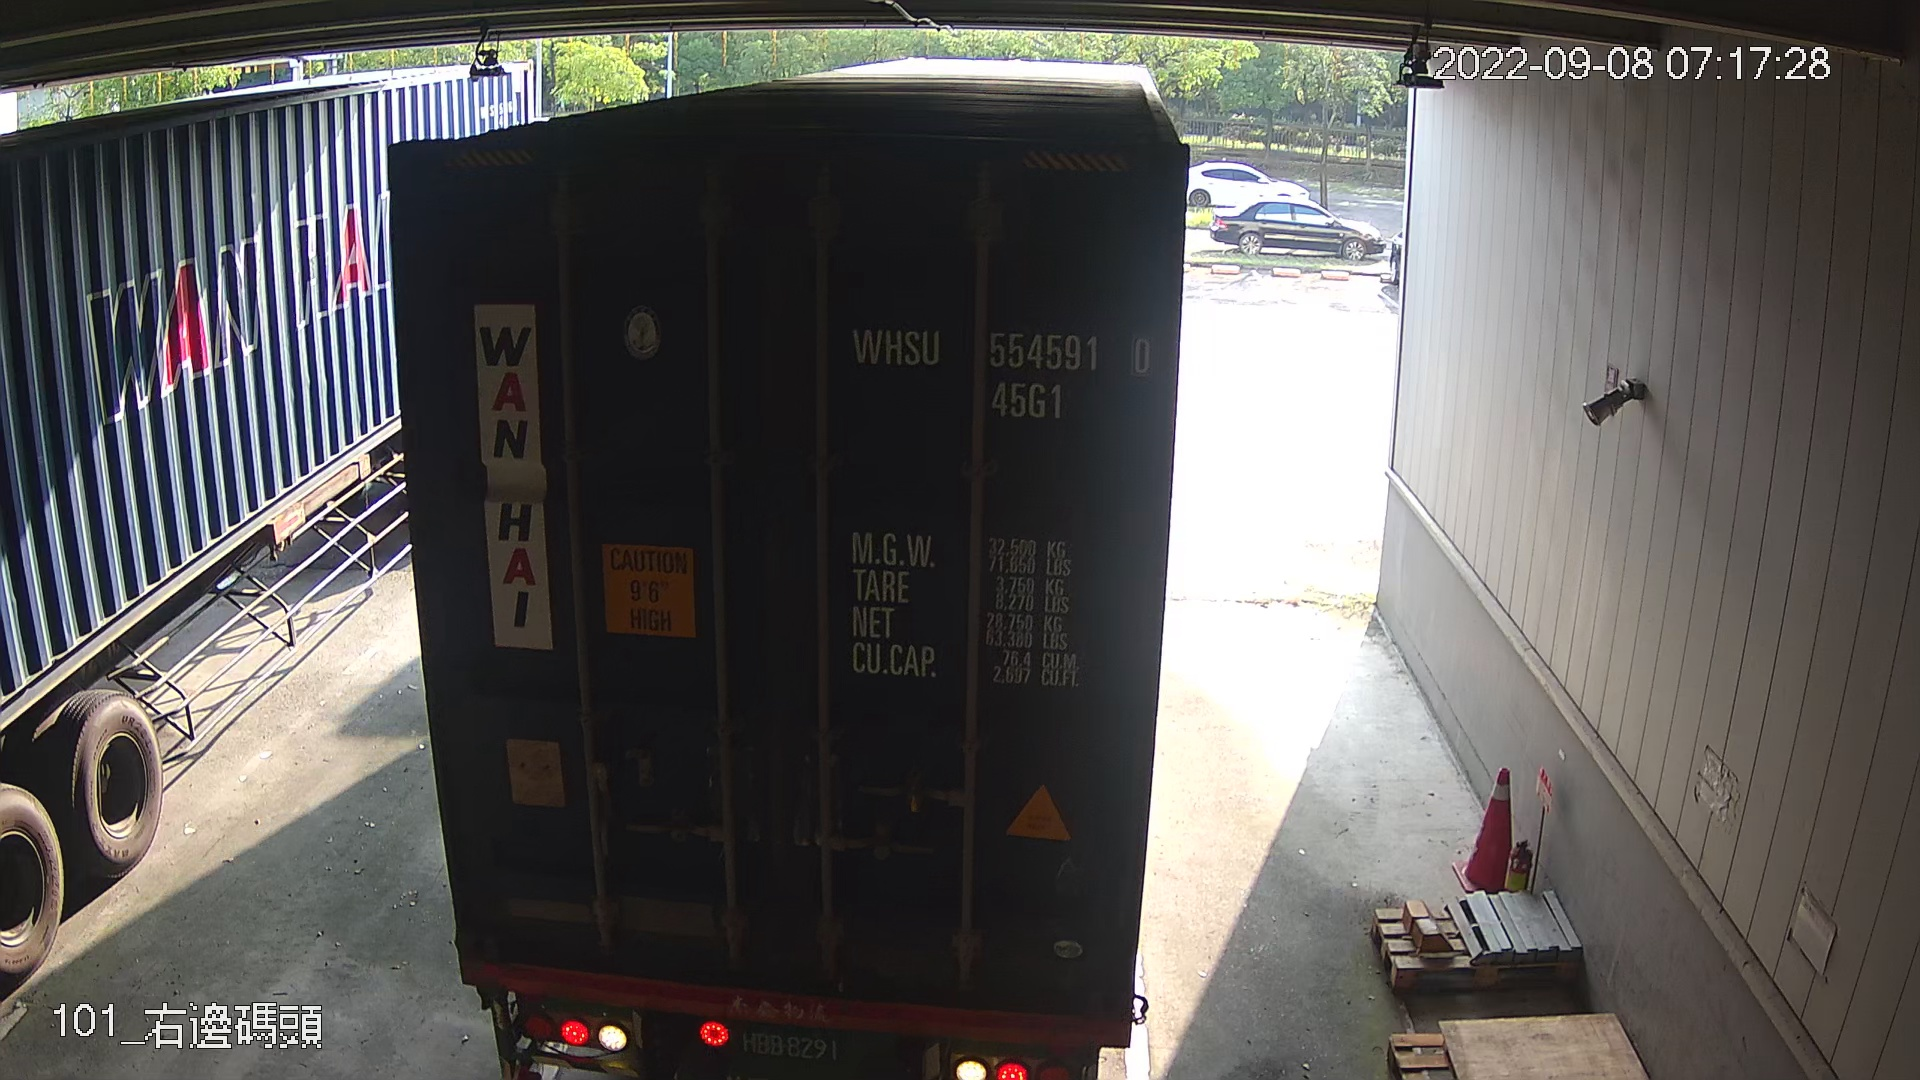container: (848, 309, 1164, 426)
